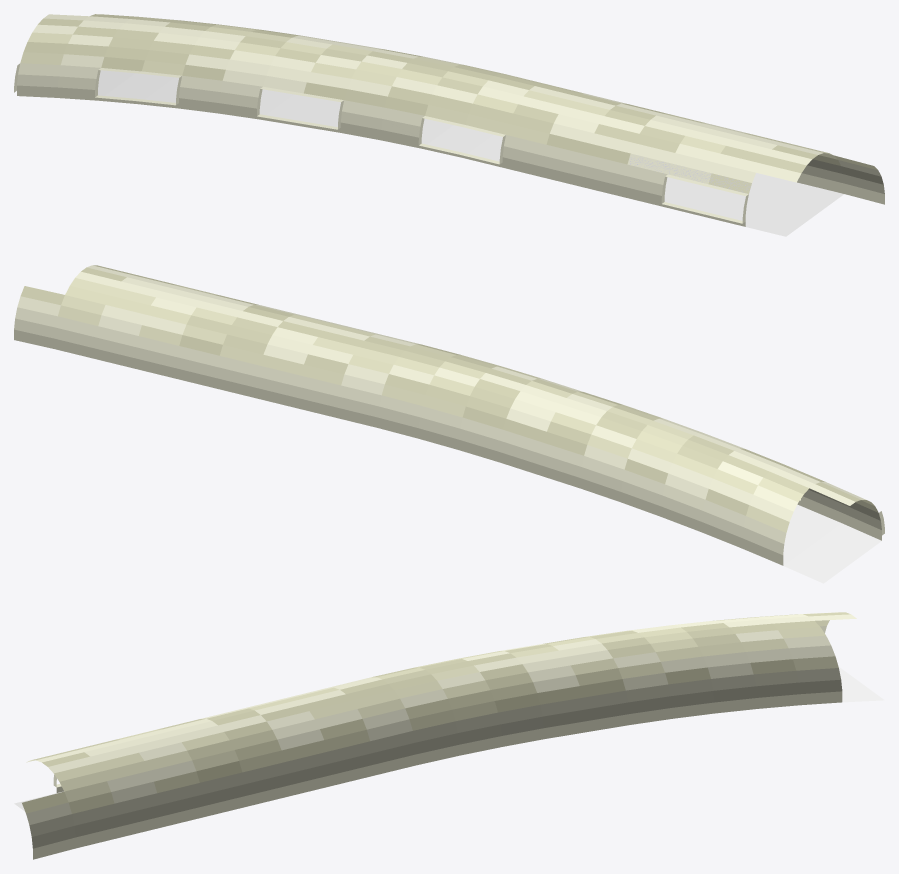
The picture shows the model from 3 angles, top to bottom: view 1: azimuth 30°, elevation 25°; view 2: azimuth 210°, elevation 25°; view 3: azimuth 270°, elevation 25°; orthographic projection. The views are drawn at different scales.
Visible parts, largest first — view 1: O2F2EF; view 2: O2F2EF; view 3: O2F2EF.
Part boxes in pixels (x1,y1,x2,y2): O2F2EF: [14, 14, 884, 236]; O2F2EF: [14, 265, 884, 583]; O2F2EF: [14, 612, 884, 859].
Bounding box in the file's own units: 98.19 × 19.85 × 142.
